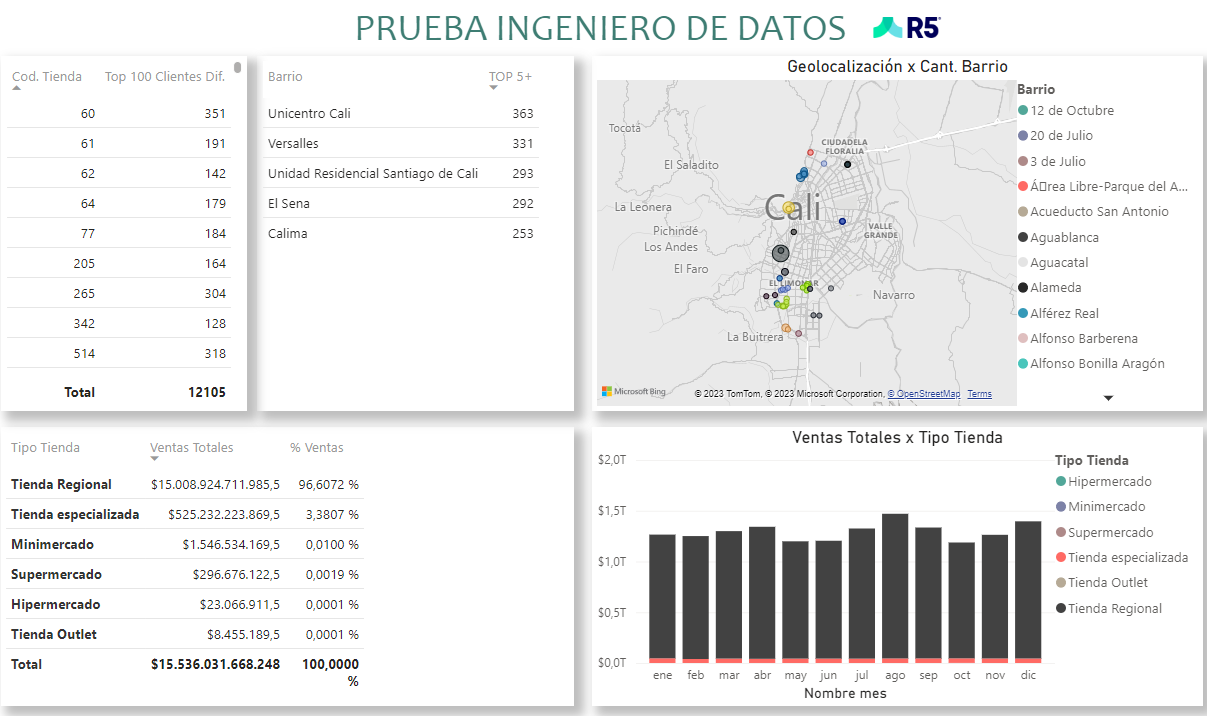

The dashboard page shown, as its layout file describes it:
{"tool":"powerbi","page":{"name":"Page 1","canvas":[1280,720],"ordinal":0},"visuals":[{"type":"textbox","box":[759.2,323.3,243.3,53.6],"z":0},{"type":"pivotTable","fields":{"Rows":["dtUbicacion.tipo_tienda"],"Values":["Medidas.Ventas Totales","Medidas.% Ventas"]},"box":[40,428,573,279],"z":1000},{"type":"map","title":"Geolocalización x Cant. Barrio","fields":{"Y":["dtUbicacion.latitud_tienda"],"X":["dtUbicacion.longitud_tienda"],"Series":["dtUbicacion.nombre_barrio"],"Size":["CountNonNull(dtUbicacion.id_barrio)"]},"box":[631,57,611,355],"z":2000},{"type":"lineStackedColumnComboChart","title":"Ventas Totales x Tipo Tienda","fields":{"Category":["dtTiempo.Nombre mes"],"Y":["Medidas.Ventas Totales"],"Series":["dtUbicacion.tipo_tienda"]},"box":[631,428,611,279],"z":3000},{"type":"tableEx","fields":{"Values":["dtUbicacion.codigo_tienda","Medidas.Measure"]},"box":[40,57,246,355],"z":4000},{"type":"tableEx","fields":{"Values":["dtUbicacion.nombre_barrio","Medidas.Measure"]},"box":[296,57,317,355],"z":5000},{"type":"image","box":[907,4,78,49],"z":6000},{"type":"textbox","box":[372,0,535,58],"z":7000}]}

Visuals, with their boxes on the page's 1280x720 design canvas (x1, y1, x2, y2). These are canvas units, not pixel positions in the 1207x716 screenshot, which may show the page scaled, cropped or inside an application window:
textbox: [759, 323, 1002, 377]
pivotTable - dtUbicacion.tipo_tienda x Medidas.Ventas Totales: [40, 428, 613, 707]
"Geolocalización x Cant. Barrio" map: [631, 57, 1242, 412]
"Ventas Totales x Tipo Tienda" lineStackedColumnComboChart: [631, 428, 1242, 707]
tableEx - dtUbicacion.codigo_tienda x Medidas.Measure: [40, 57, 286, 412]
tableEx - dtUbicacion.nombre_barrio x Medidas.Measure: [296, 57, 613, 412]
image: [907, 4, 985, 53]
textbox: [372, 0, 907, 58]
